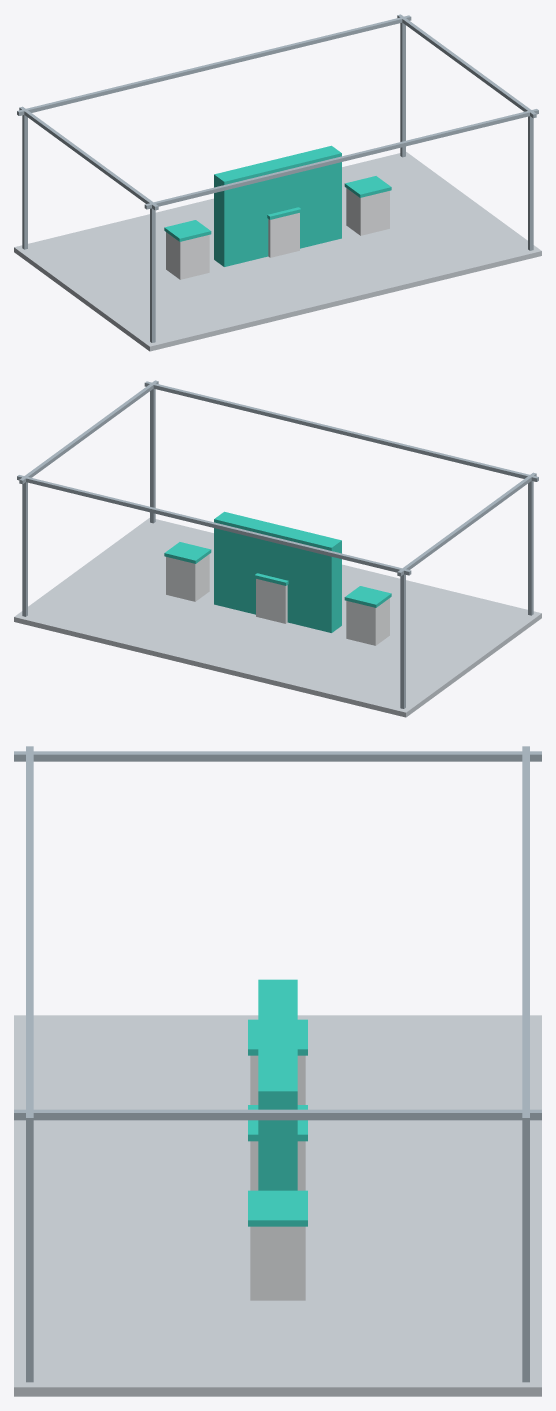
3 renders of one model, top to bottom at view 1: azimuth 30°, elevation 25°; view 2: azimuth 150°, elevation 25°; view 3: azimuth 270°, elevation 25°, orthographic. The views are drawn at different scales.
Parts seen in each view (by area): view 1: Exhibition Booth Concept; view 2: Exhibition Booth Concept; view 3: Exhibition Booth Concept.
Part boxes in pixels (<box>): Exhibition Booth Concept: <box>14,14,541,351</box>; Exhibition Booth Concept: <box>14,380,541,717</box>; Exhibition Booth Concept: <box>14,746,541,1396</box>.
Size of the model in its own units: 10 by 3.49 by 6.
